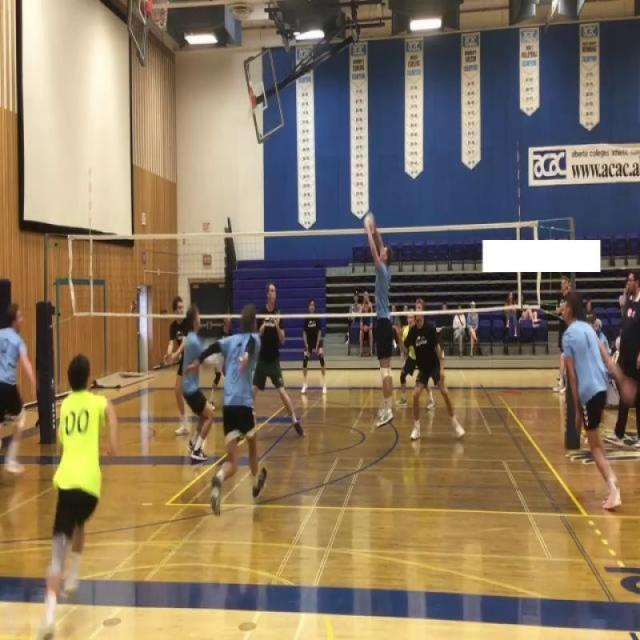volleyball: (364, 212, 376, 234)
